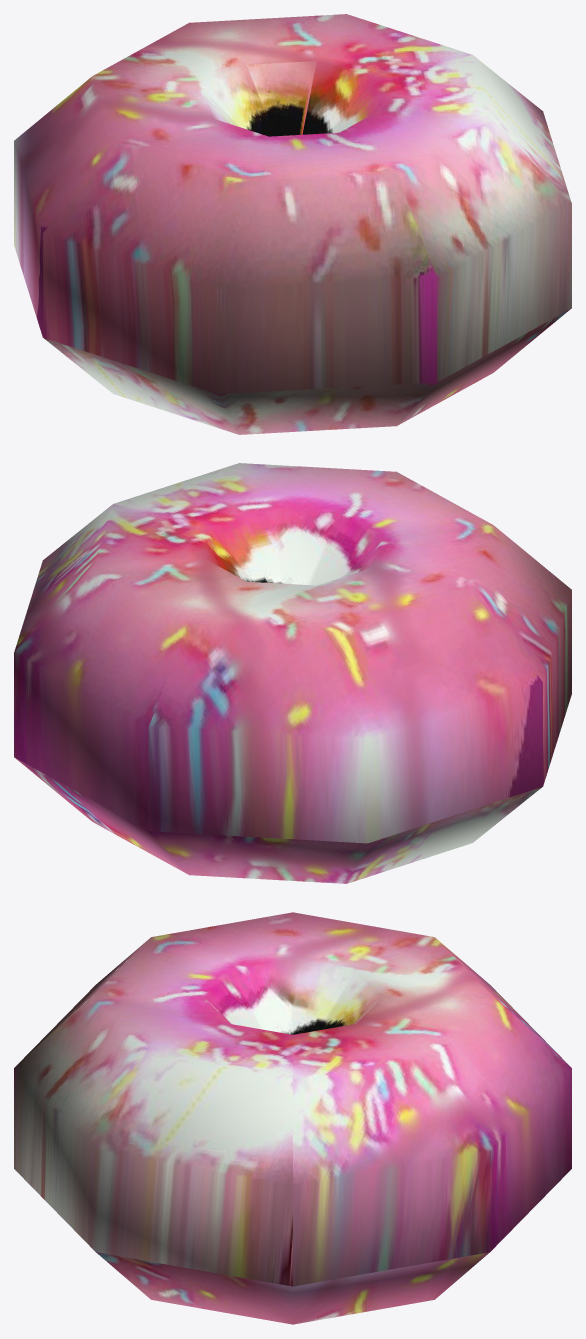
File: donut.glb
The picture shows the model from 3 angles, top to bottom: view 1: azimuth 30°, elevation 25°; view 2: azimuth 150°, elevation 25°; view 3: azimuth 270°, elevation 25°; orthographic projection. The views are drawn at different scales.
Visible parts, largest first — view 1: mesh; view 2: mesh; view 3: mesh.
Part boxes in pixels (x1,y1,x2,y2): mesh: [14, 14, 571, 434]; mesh: [14, 463, 571, 883]; mesh: [14, 912, 571, 1324].
Size of the model in its own units: 19.24 by 9.24 by 19.24.
Materials: 2 (2 with a texture image).
